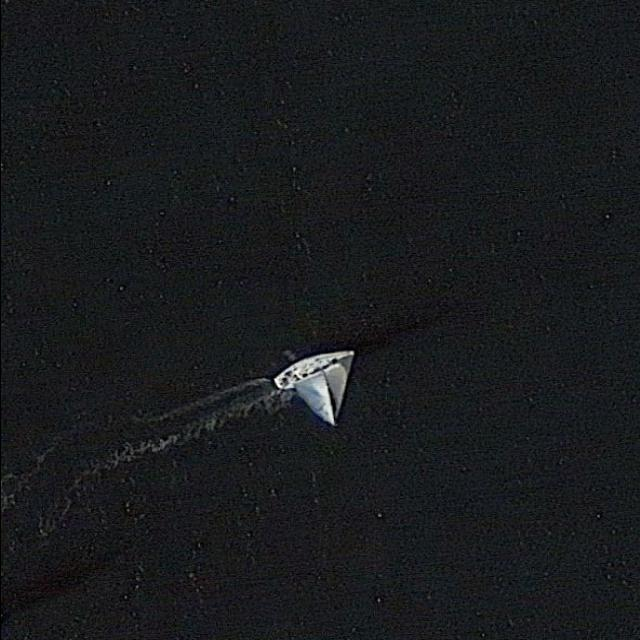ship: (272, 348, 358, 428)
